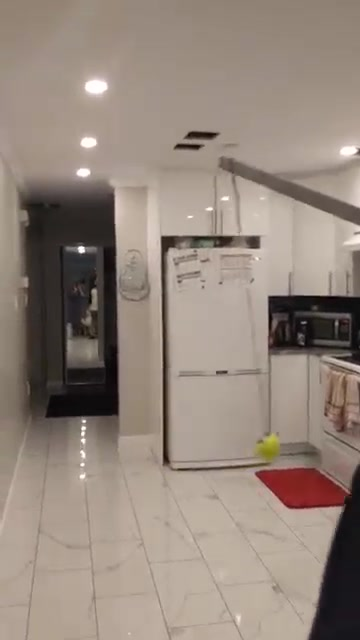tennis_ball: (254, 432, 283, 461)
